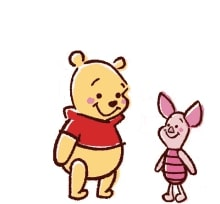Winnie: (58, 47, 135, 151)
